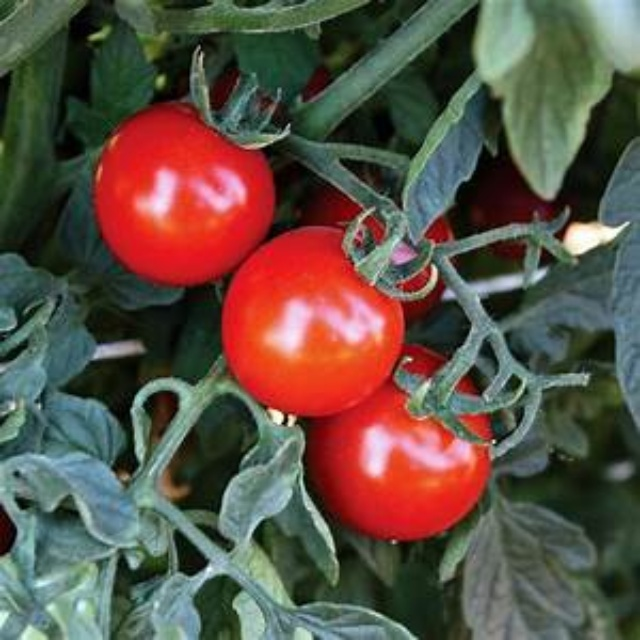tomato: (85, 105, 276, 286), (321, 355, 493, 541), (225, 231, 392, 416), (326, 183, 457, 310)
